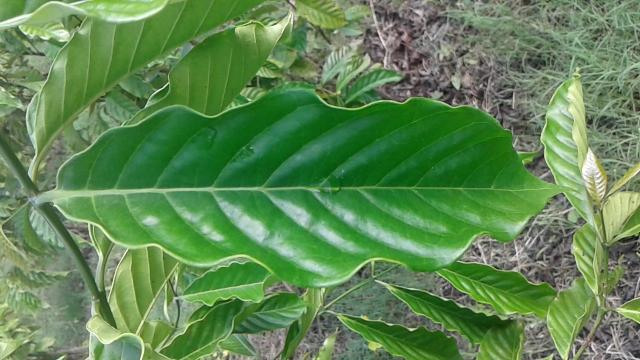healthy: (55, 87, 576, 285)
